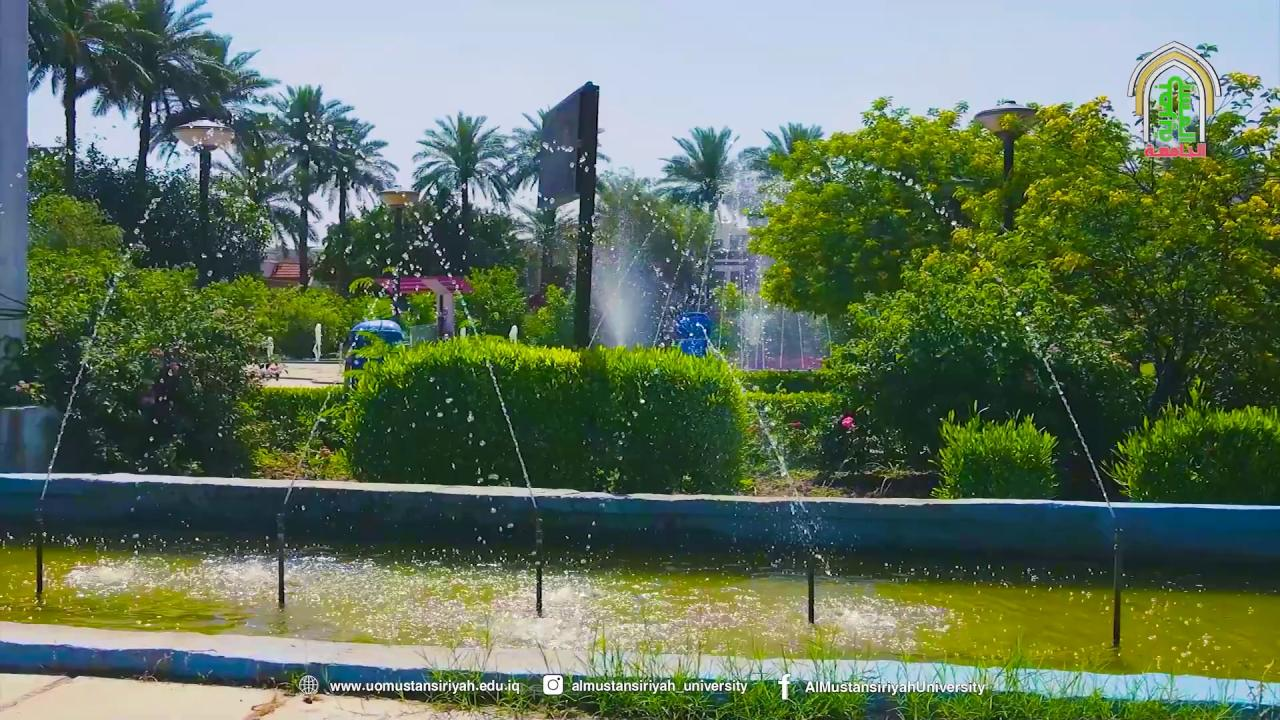fountain: (1, 476, 1278, 710)
tree: (748, 60, 1279, 496), (1008, 70, 1279, 424), (316, 339, 756, 493), (744, 95, 996, 338), (25, 207, 248, 474), (27, 0, 277, 197), (215, 82, 396, 288), (654, 123, 742, 314), (313, 119, 396, 295), (502, 105, 576, 302), (927, 400, 1060, 499), (410, 109, 510, 233), (169, 108, 235, 289), (654, 123, 741, 215), (737, 121, 825, 180), (461, 263, 528, 340)
